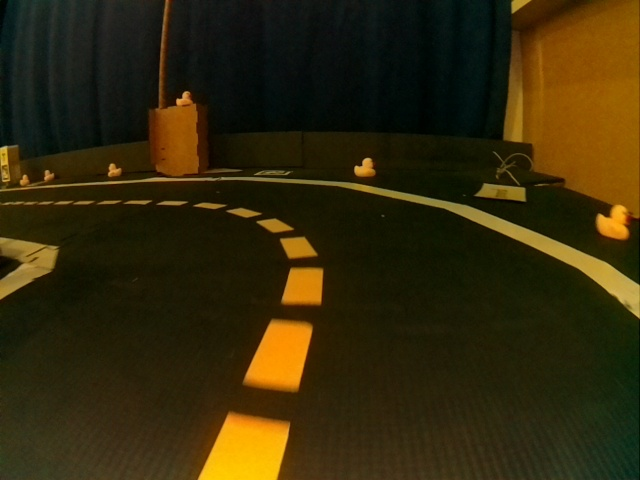Duckie: (597, 204, 632, 240), (353, 158, 375, 177), (176, 91, 192, 106), (108, 163, 122, 178), (20, 175, 30, 186), (45, 170, 55, 180)
QR code: (254, 170, 292, 177)
